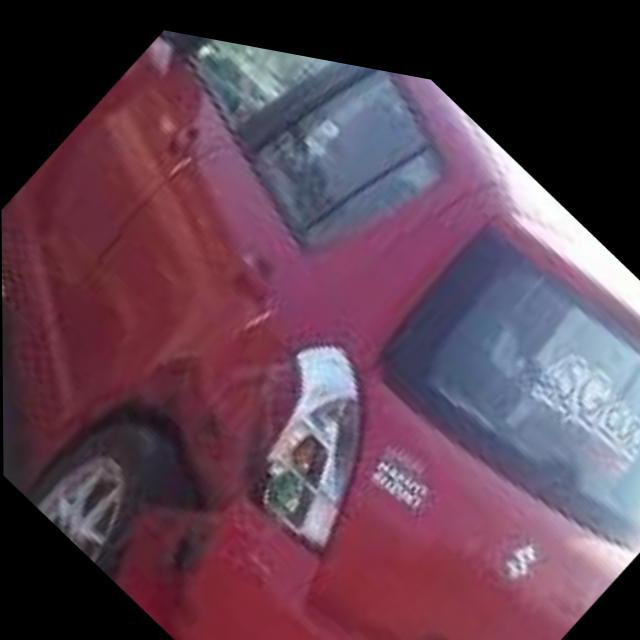dent: (75, 304, 295, 640)
lamp broken: (259, 331, 361, 546)
